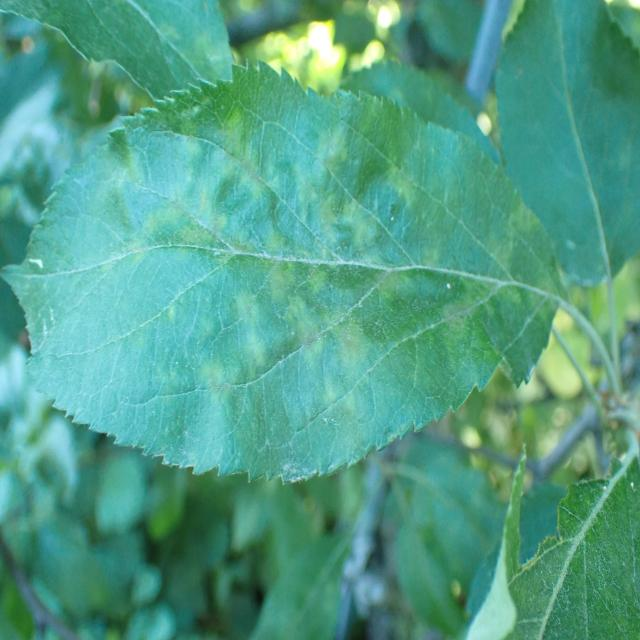scab: (55, 121, 552, 440)
